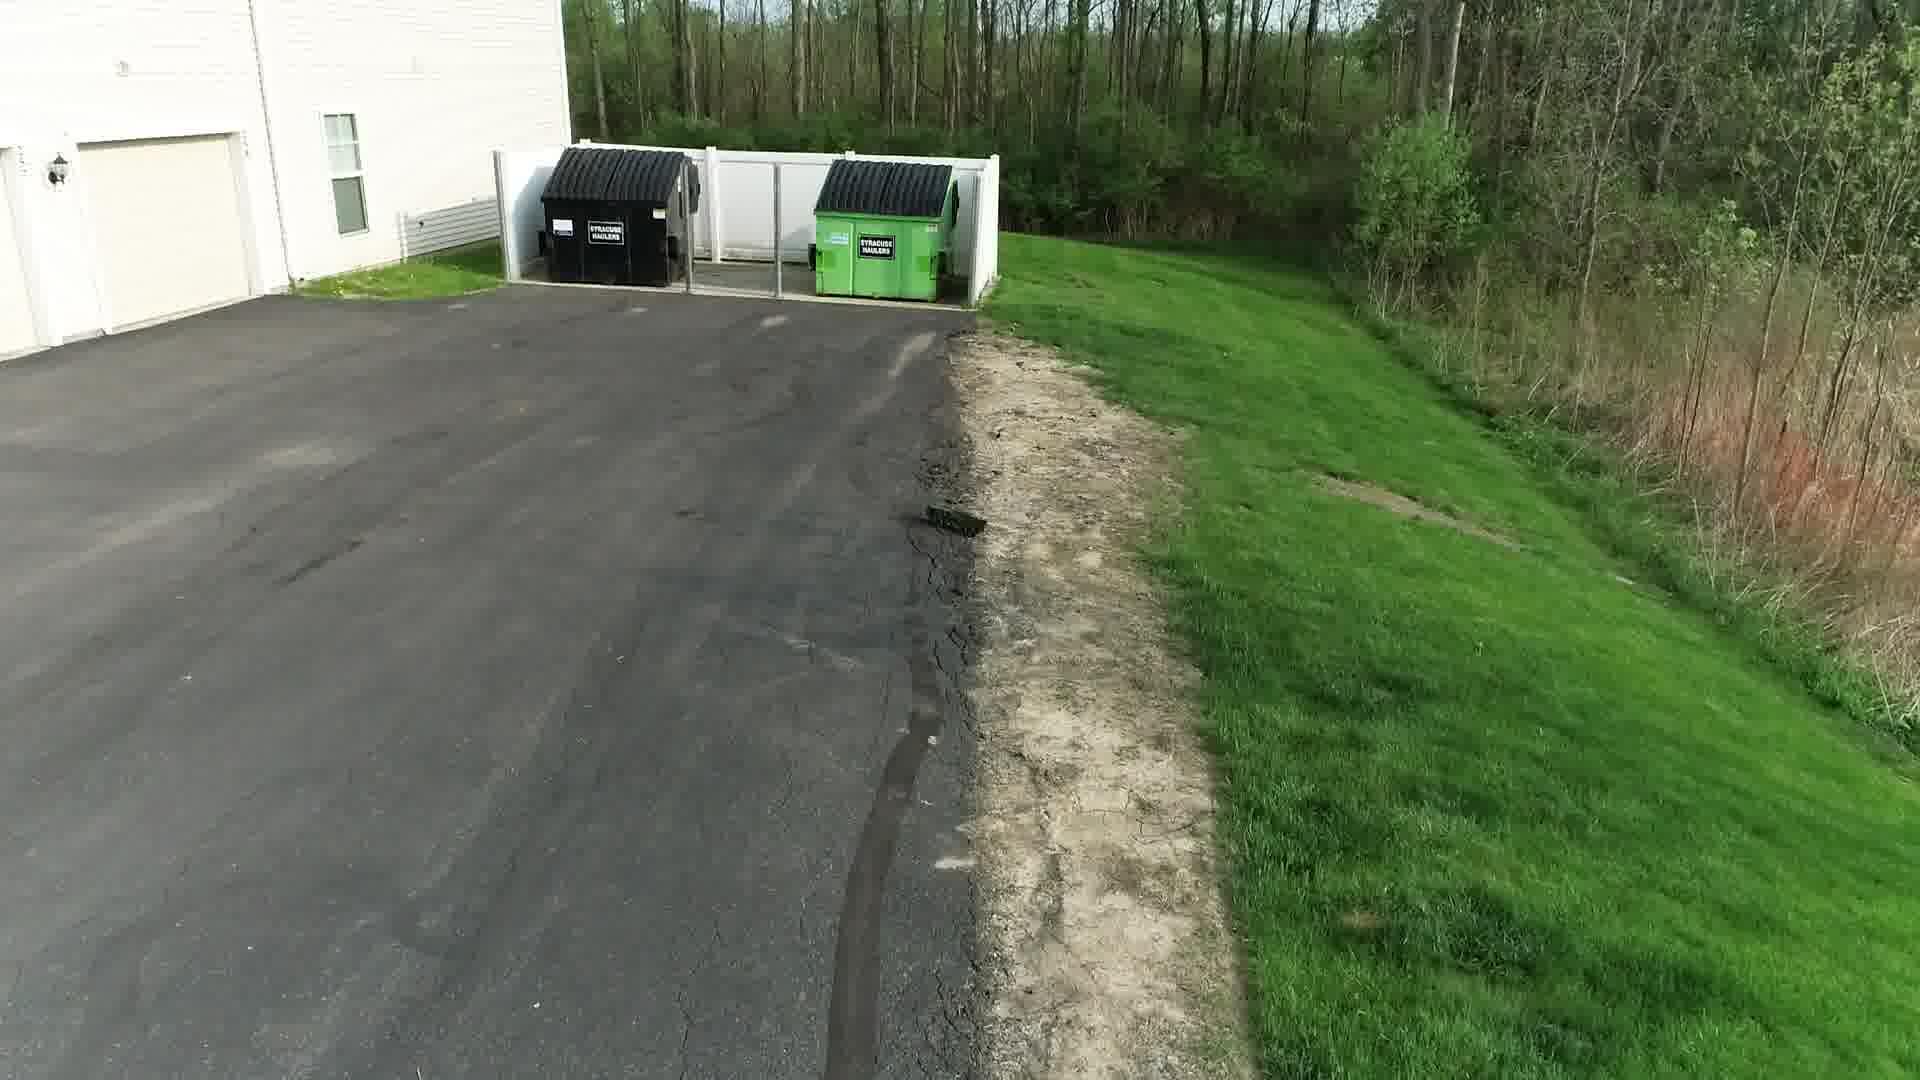transporter9: (924, 500, 989, 539)
